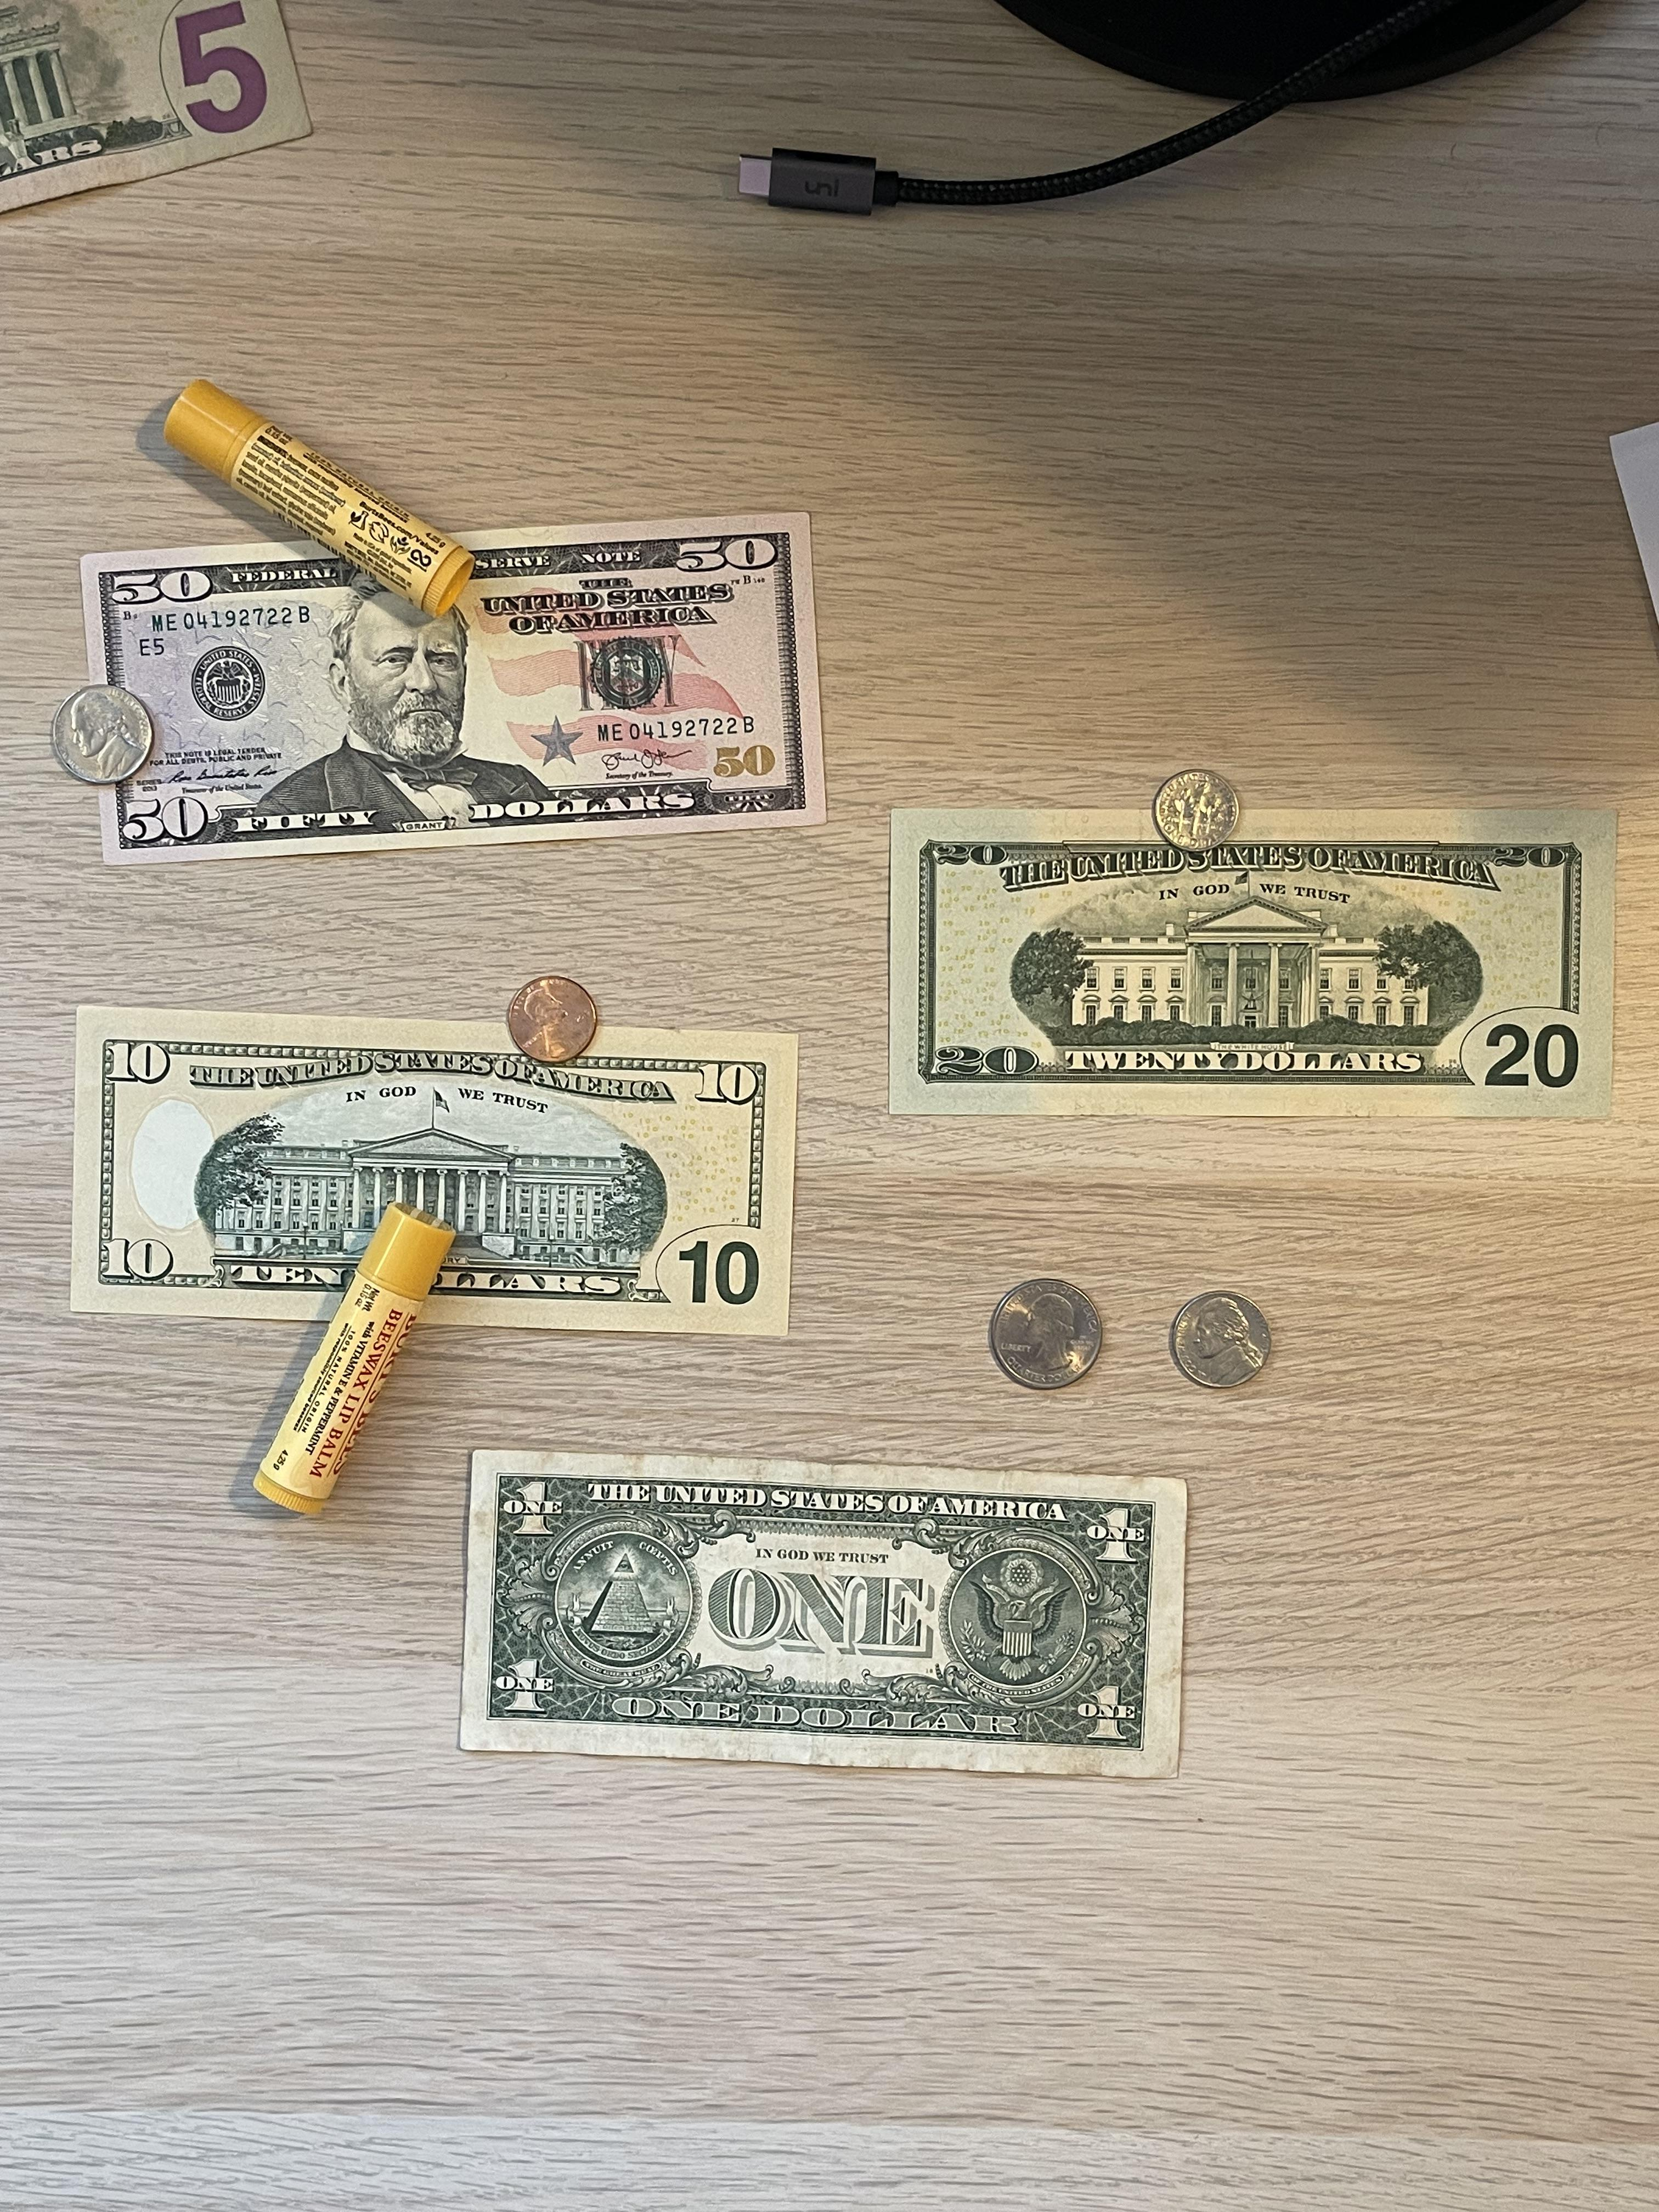Dime: (1152, 768, 1241, 852)
FiftyBill: (77, 512, 828, 867)
Nickel: (51, 683, 153, 786), (1171, 1291, 1272, 1390)
OneBill: (458, 1447, 1190, 1782)
Penny: (507, 975, 598, 1062)
Quarter: (990, 1277, 1103, 1392)
TenBill: (66, 1001, 800, 1339)
TwentyBill: (885, 803, 1617, 1120)
